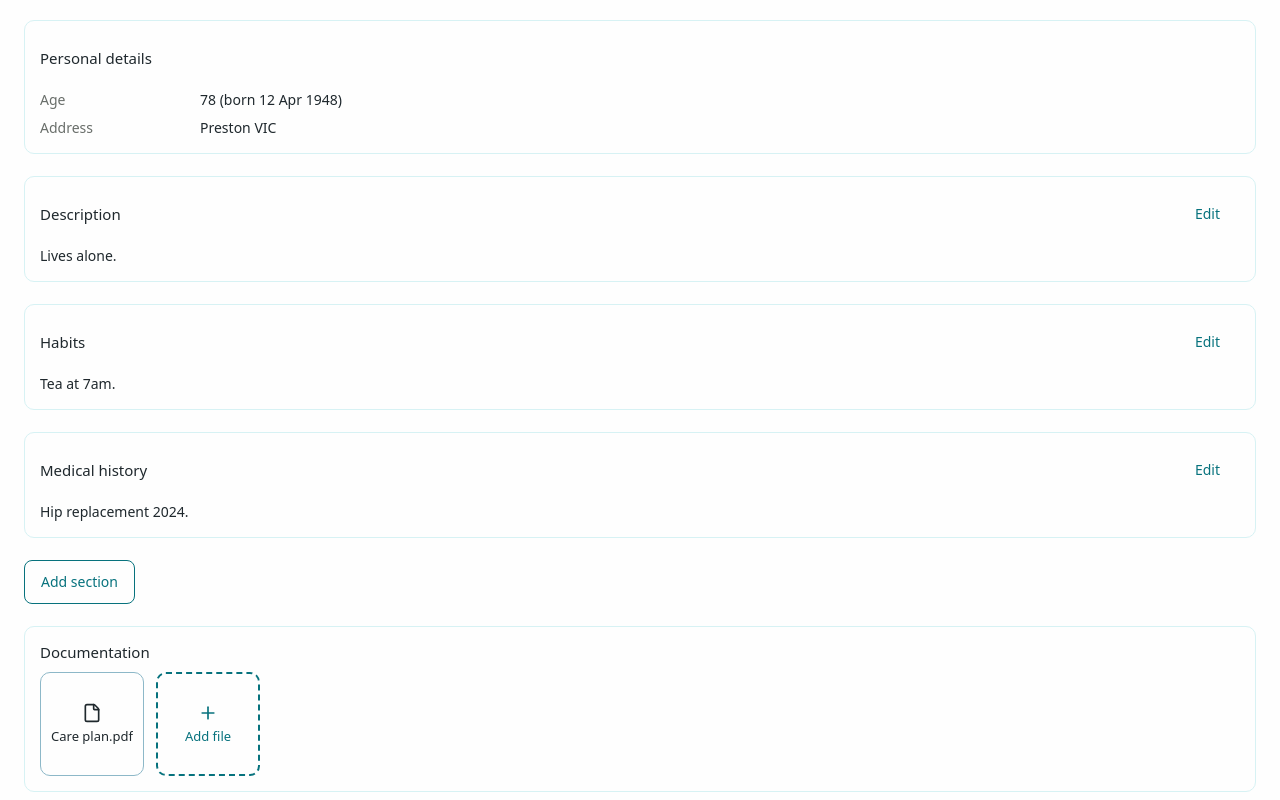
Test: [CAR-04][AC-02] on shift the carer edits a section › [CAR-04][AC-02] saves Habits through the contract and shows the new text
This screenshot has width=1280, height=800.
Click the button with aria-label "Edit Habits" at coordinates (1207, 342), box 1175,320 -> 1240,364
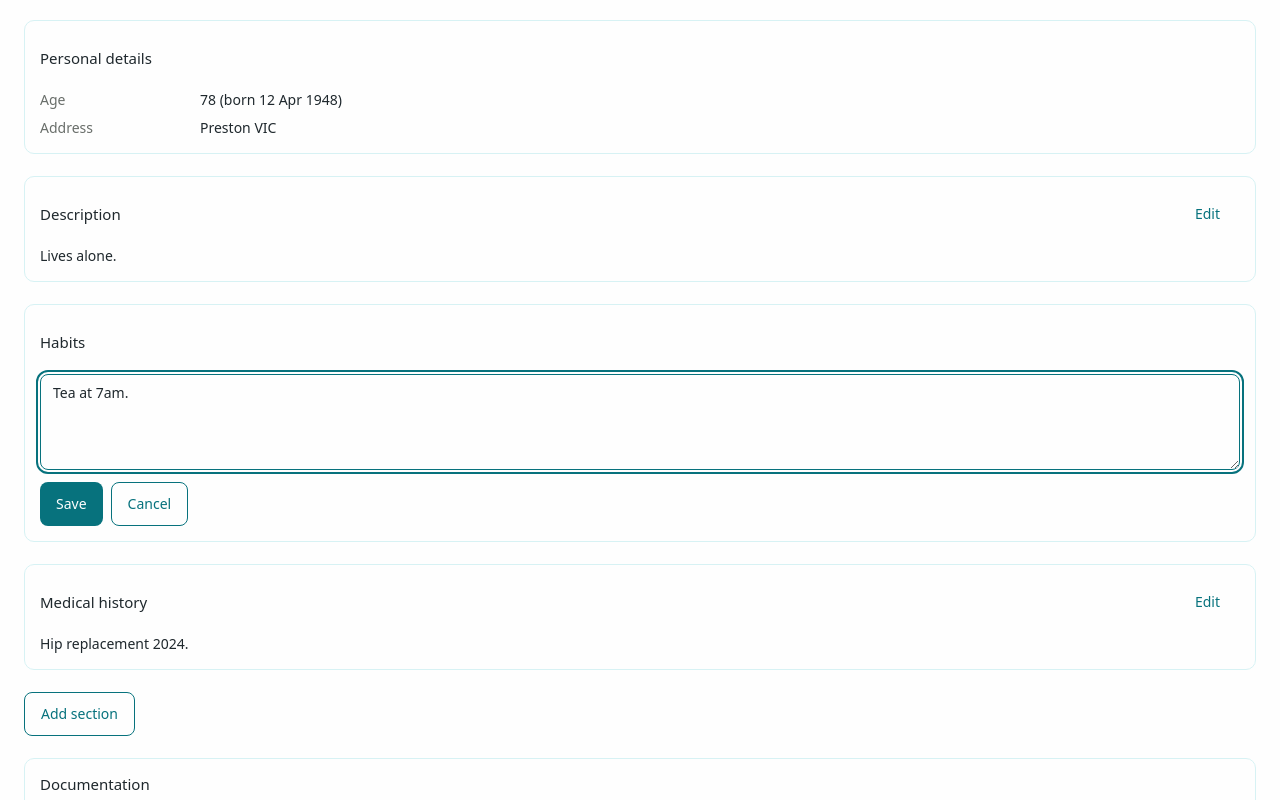
Replace the text in the text box named "Habits" with "Tea at 6am, then a walk." at coordinates (640, 422), box 40,374 -> 1240,470
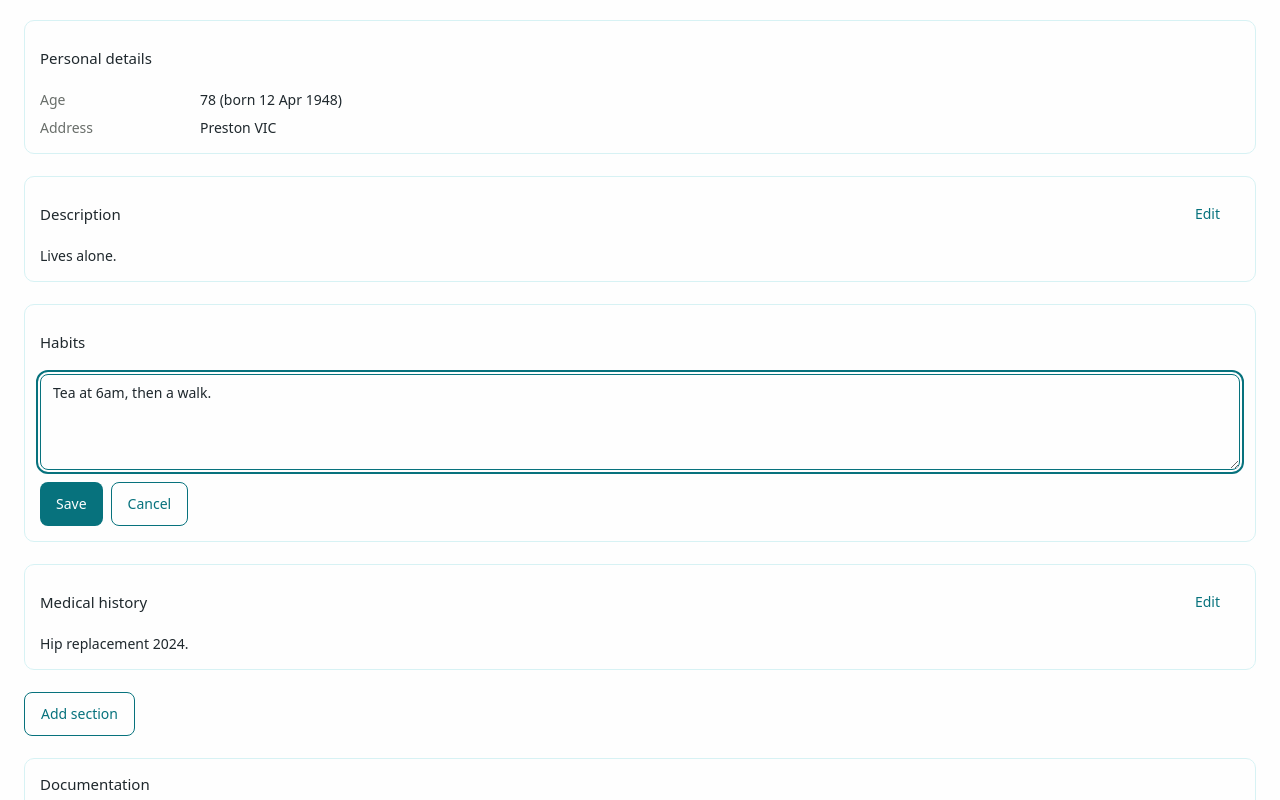
Click the button "Save" at coordinates (71, 504), box 40,482 -> 103,526
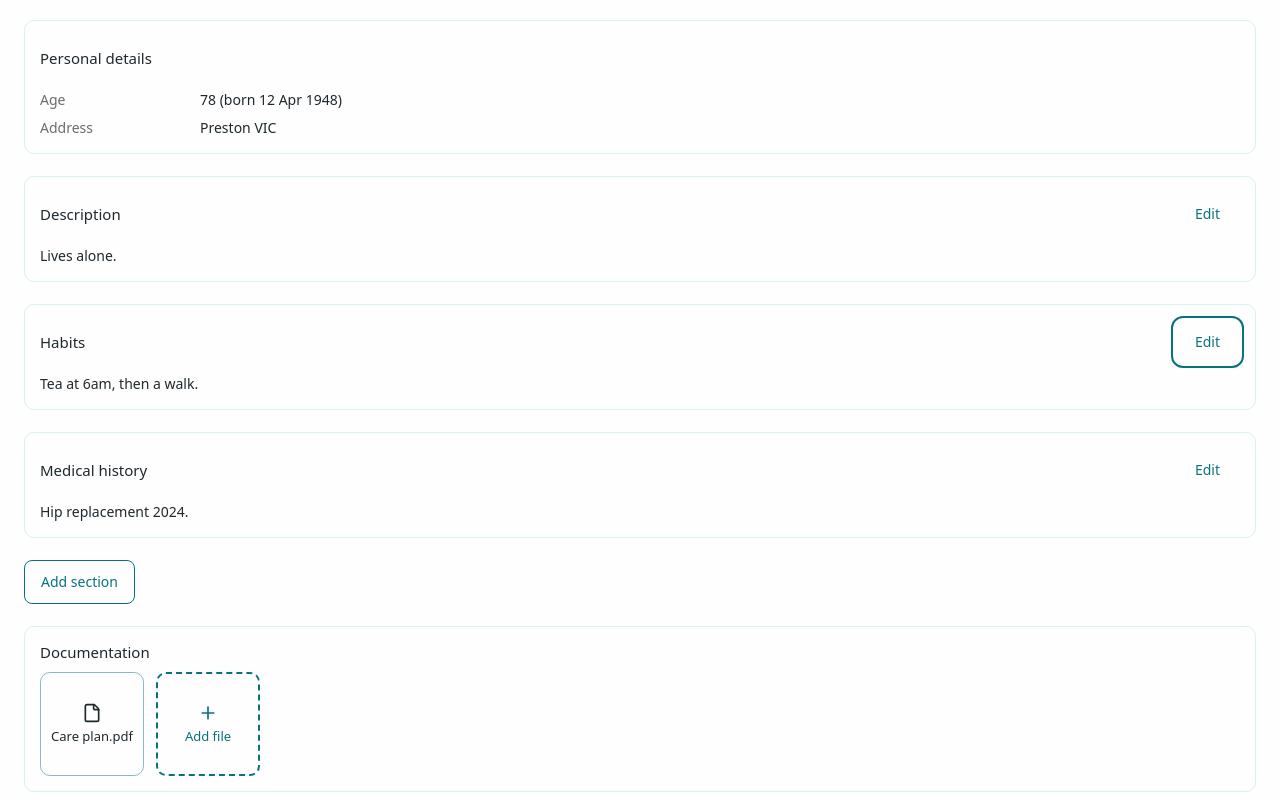
Now the text "Tea at 6am, then a walk." is shown, box 40,374 -> 198,393
